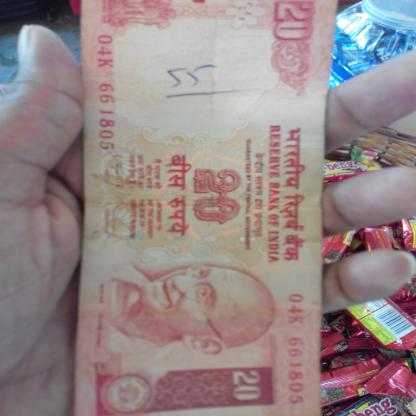Old20Front: (75, 0, 340, 416)
